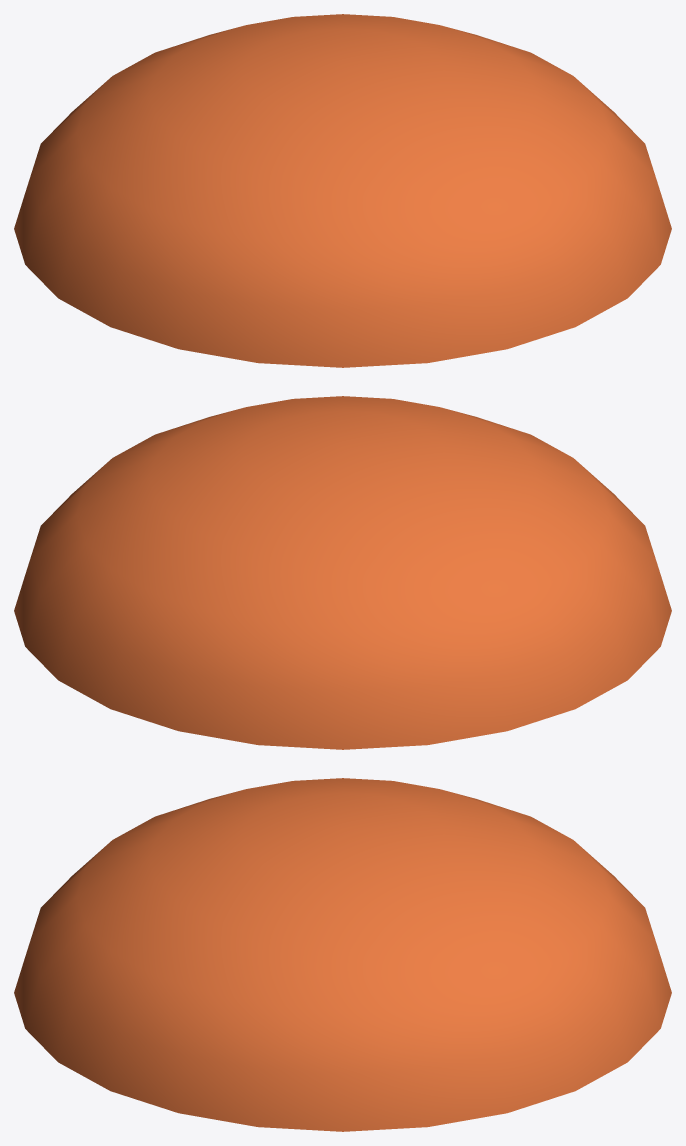
The model's file is HalfSphere.fbx.
3 views of the same model, one above another, from view 1: azimuth 30°, elevation 25°; view 2: azimuth 150°, elevation 25°; view 3: azimuth 270°, elevation 25° (orthographic).
Parts seen in each view (by area): view 1: HalfSphere; view 2: HalfSphere; view 3: HalfSphere.
Part boxes in pixels (left/top/right/bottom): HalfSphere: left=14, top=14, right=671, bottom=367; HalfSphere: left=14, top=396, right=671, bottom=749; HalfSphere: left=14, top=778, right=671, bottom=1131.
Size of the model in its own units: 200 by 55.13 by 200.
